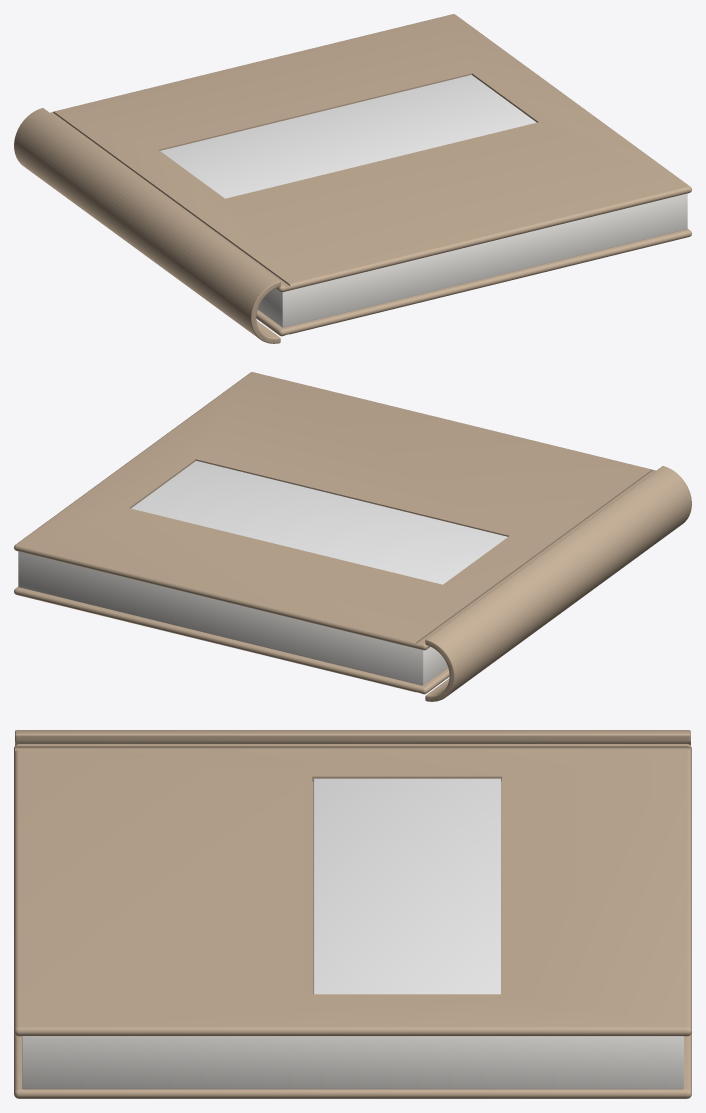
Rendered from photo-panoramic--square.glb.
3 renders of one model, top to bottom at view 1: azimuth 30°, elevation 25°; view 2: azimuth 150°, elevation 25°; view 3: azimuth 270°, elevation 25°, orthographic. The views are drawn at different scales.
Parts seen in each view (by area): view 1: CoverFront, Photo, Spine, Pages, CoverBack; view 2: CoverFront, Photo, Spine, Pages, CoverBack; view 3: CoverFront, Photo, Pages, Spine, CoverBack.
Boxes of the visible parts, x1,y1,x2,y2 form: CoverFront: (50, 14, 691, 292); Photo: (160, 75, 536, 198); Spine: (14, 108, 280, 343); Pages: (258, 193, 687, 327); CoverBack: (256, 229, 691, 336); CoverFront: (14, 372, 655, 650); Photo: (131, 461, 507, 584); Spine: (425, 466, 691, 701); Pages: (18, 551, 447, 685); CoverBack: (14, 587, 449, 694); CoverFront: (14, 744, 691, 1036); Photo: (313, 778, 500, 994); Pages: (22, 1036, 683, 1089); Spine: (15, 730, 690, 745); CoverBack: (14, 1033, 691, 1098).
Bounding box in the file's own units: 0.3208 × 0.043 × 0.3.
